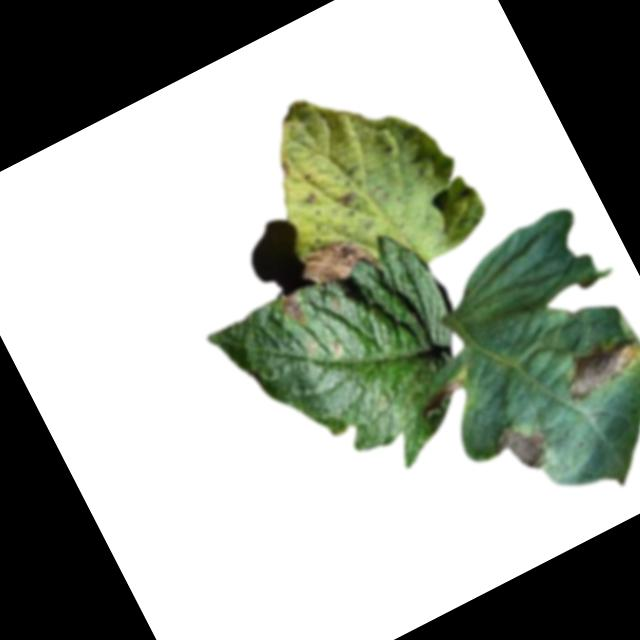Early_blight: (553, 325, 640, 406), (295, 224, 382, 296), (485, 408, 558, 482), (414, 376, 472, 422), (275, 291, 309, 330), (339, 189, 356, 204)
